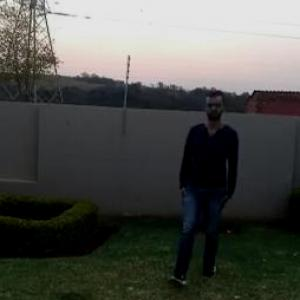follow: (176, 89, 241, 287)
